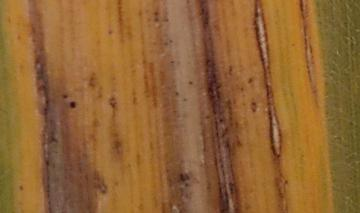tarspot: (178, 170, 190, 182), (69, 100, 77, 110), (187, 78, 195, 87), (61, 92, 69, 99), (17, 183, 23, 191), (218, 116, 224, 124), (153, 16, 159, 24), (181, 96, 188, 102), (153, 9, 159, 16), (173, 90, 179, 96)
